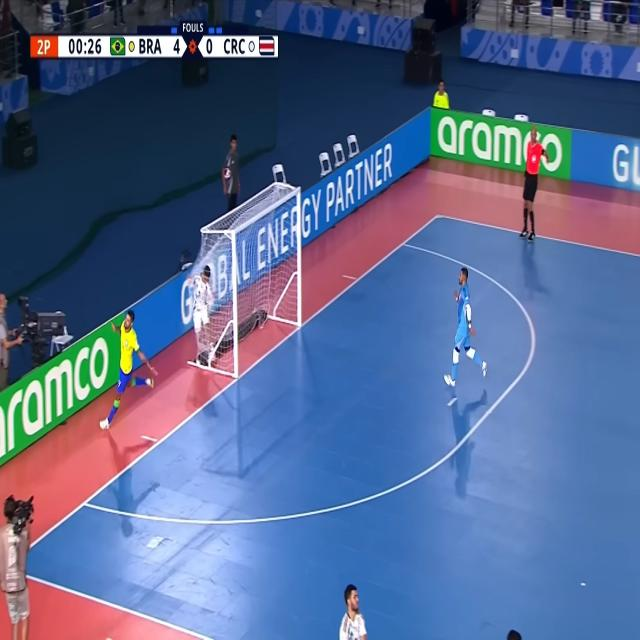Field: (26, 214, 640, 640)
